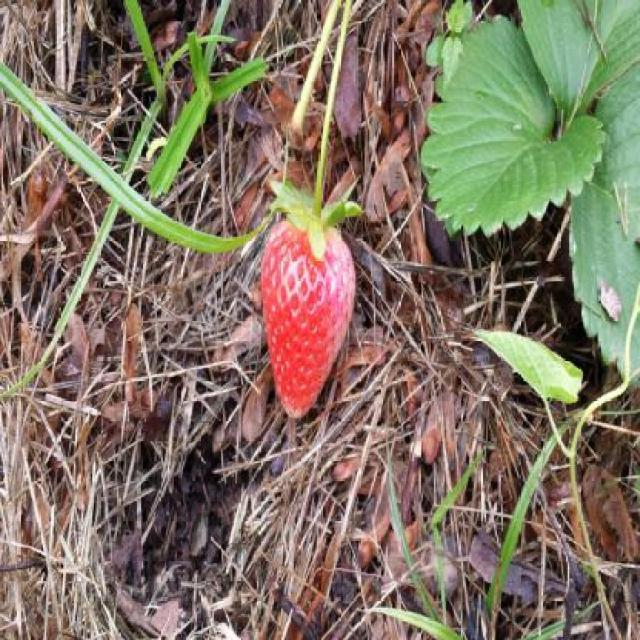Strawberry: (258, 192, 356, 414)
